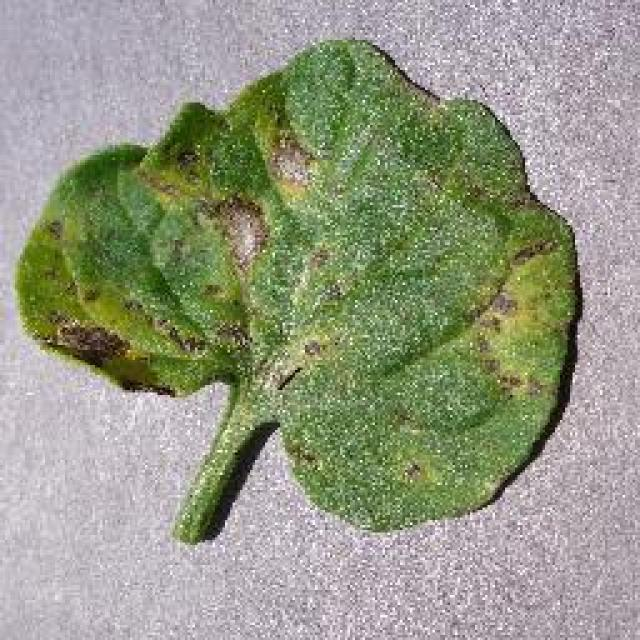Tomato___Septoria_leaf_spot: (18, 40, 578, 540)
